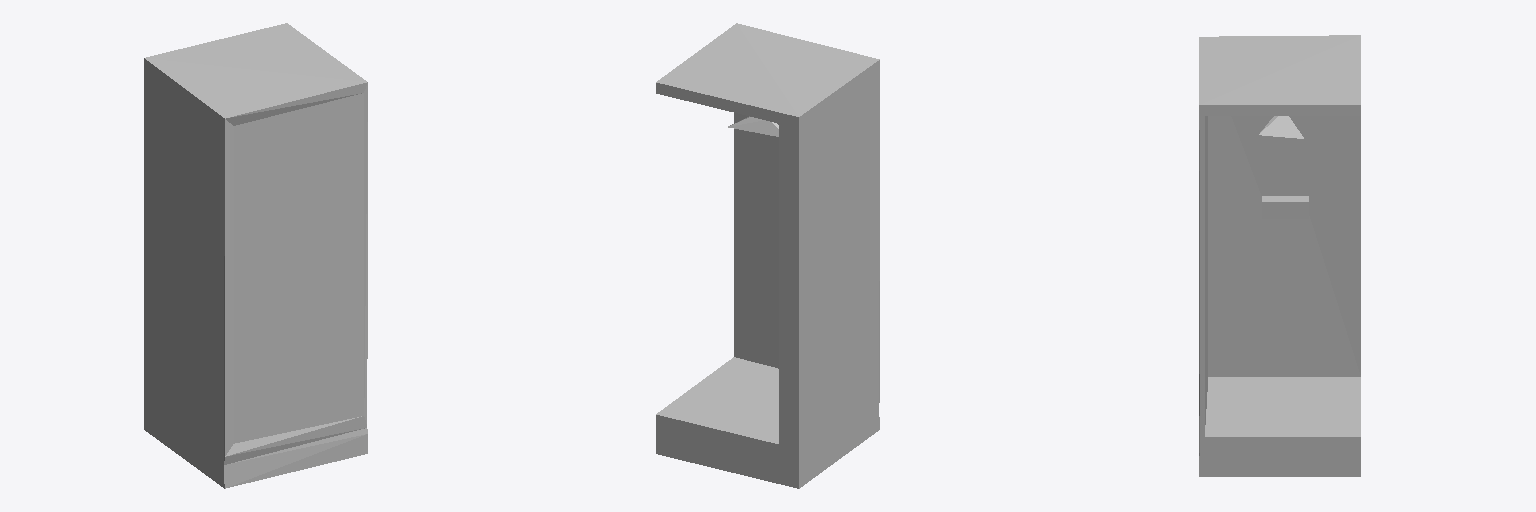
Rendered from shower.obj.
The picture shows the model from 3 angles: view 1: azimuth 30°, elevation 25°; view 2: azimuth 150°, elevation 25°; view 3: azimuth 270°, elevation 25°; orthographic projection.
Parts seen in each view (by area): view 1: house_shower_Cube.013; view 2: house_shower_Cube.013; view 3: house_shower_Cube.013.
Part boxes in pixels (left/top/right/bottom): house_shower_Cube.013: left=144, top=23, right=367, bottom=488; house_shower_Cube.013: left=656, top=23, right=879, bottom=488; house_shower_Cube.013: left=1199, top=35, right=1360, bottom=476.
Size of the model in its own units: 1.04 by 2.59 by 1.02.